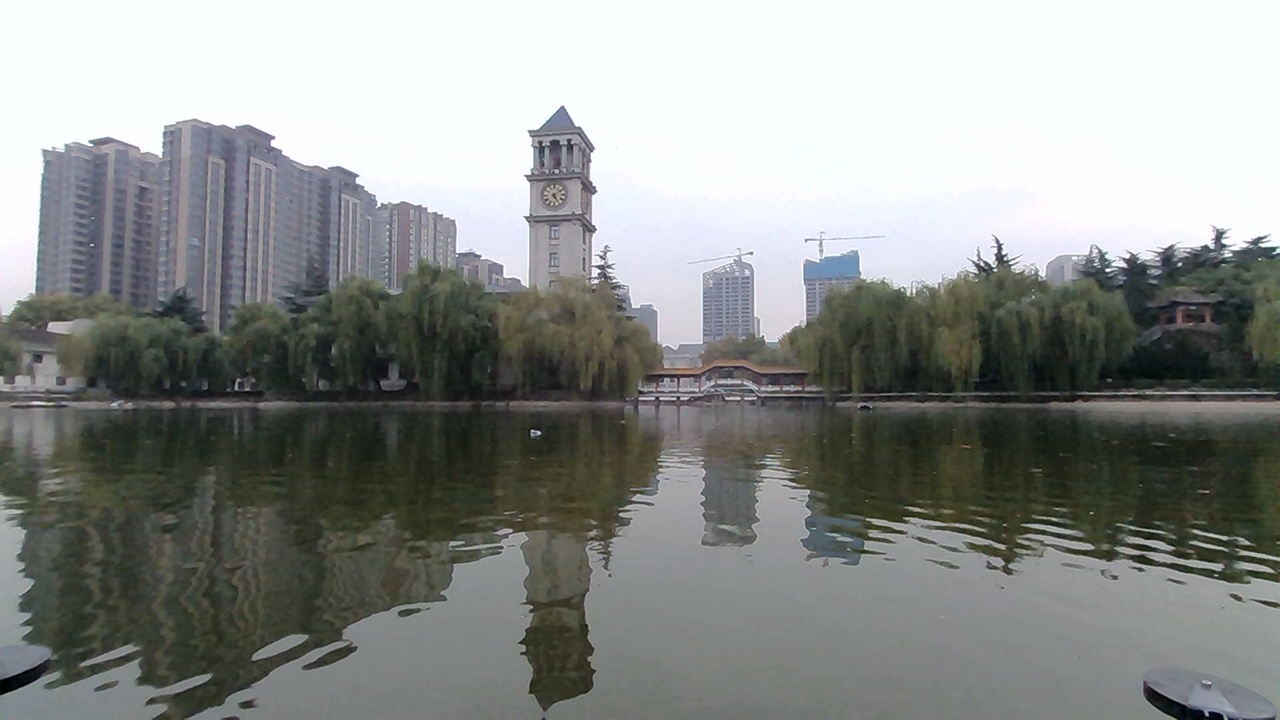bottle: (525, 420, 553, 442)
